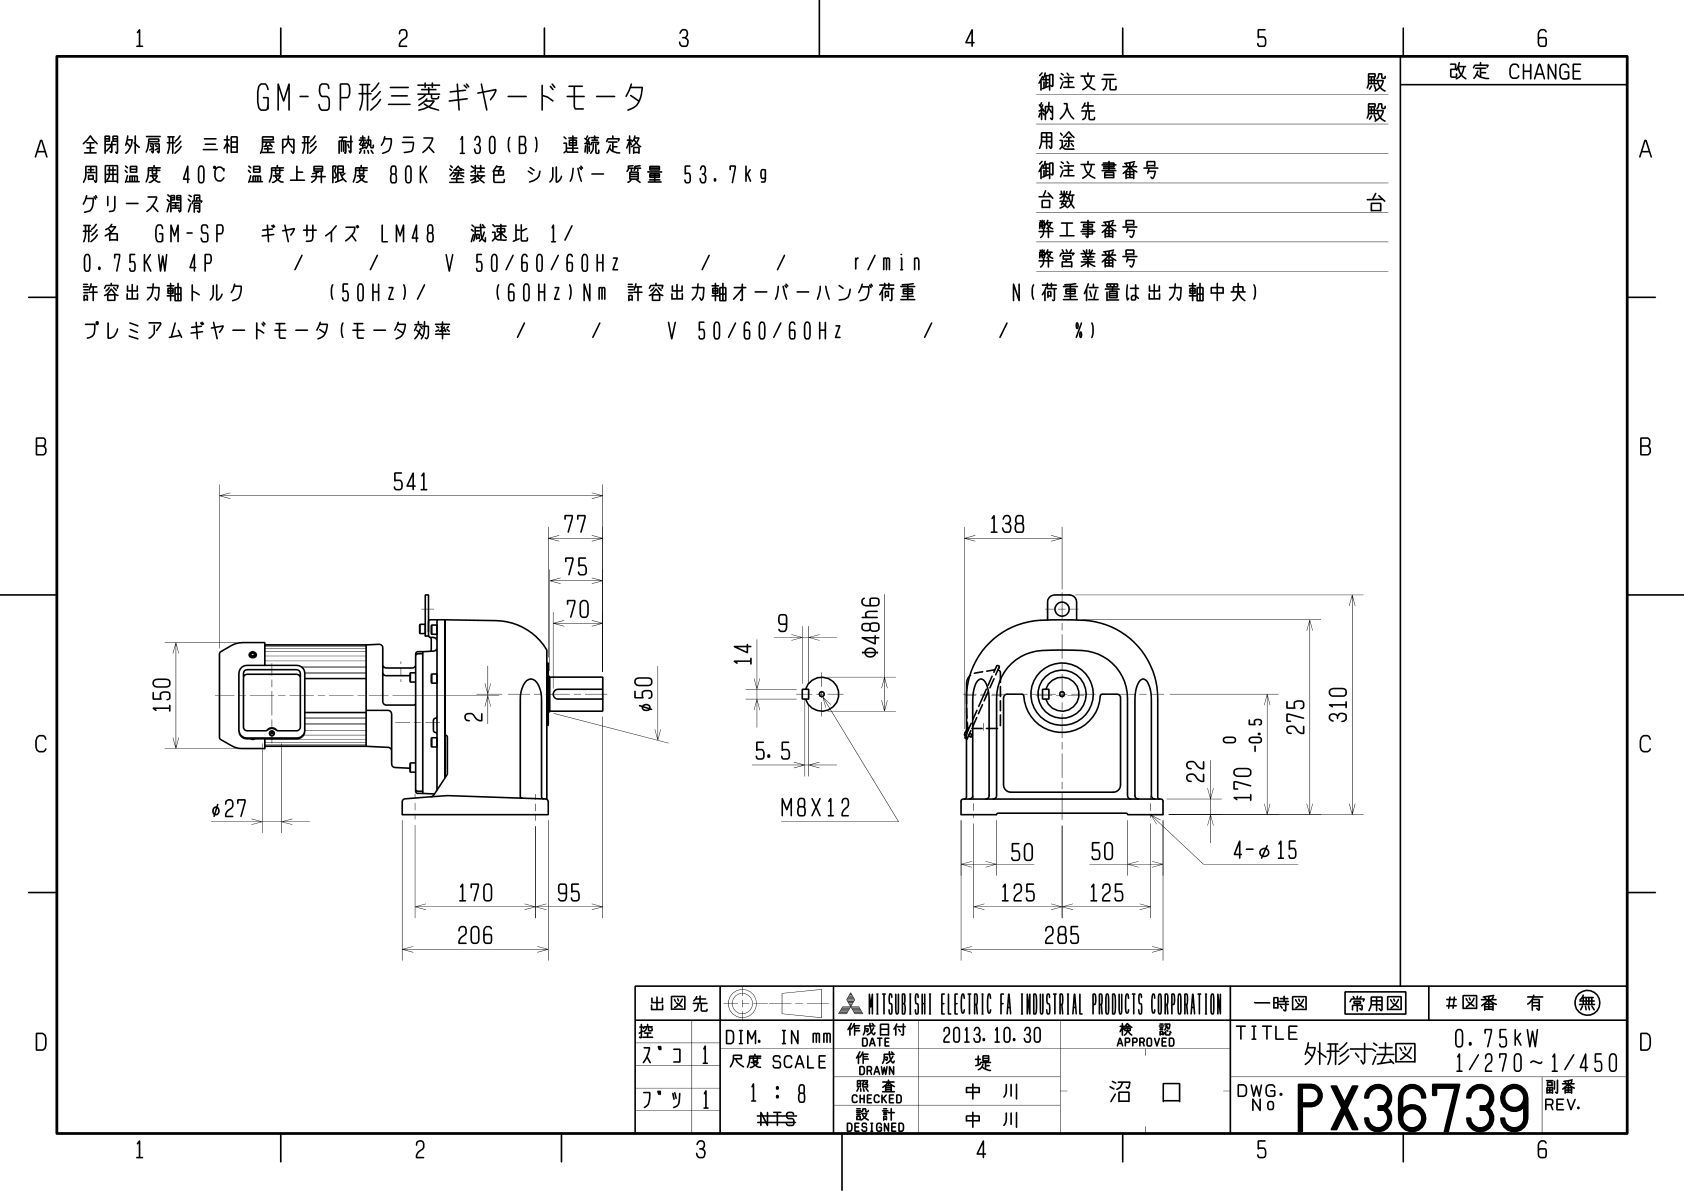GM_SP_屋内_三相_脚: (12, 13, 1684, 1191)
